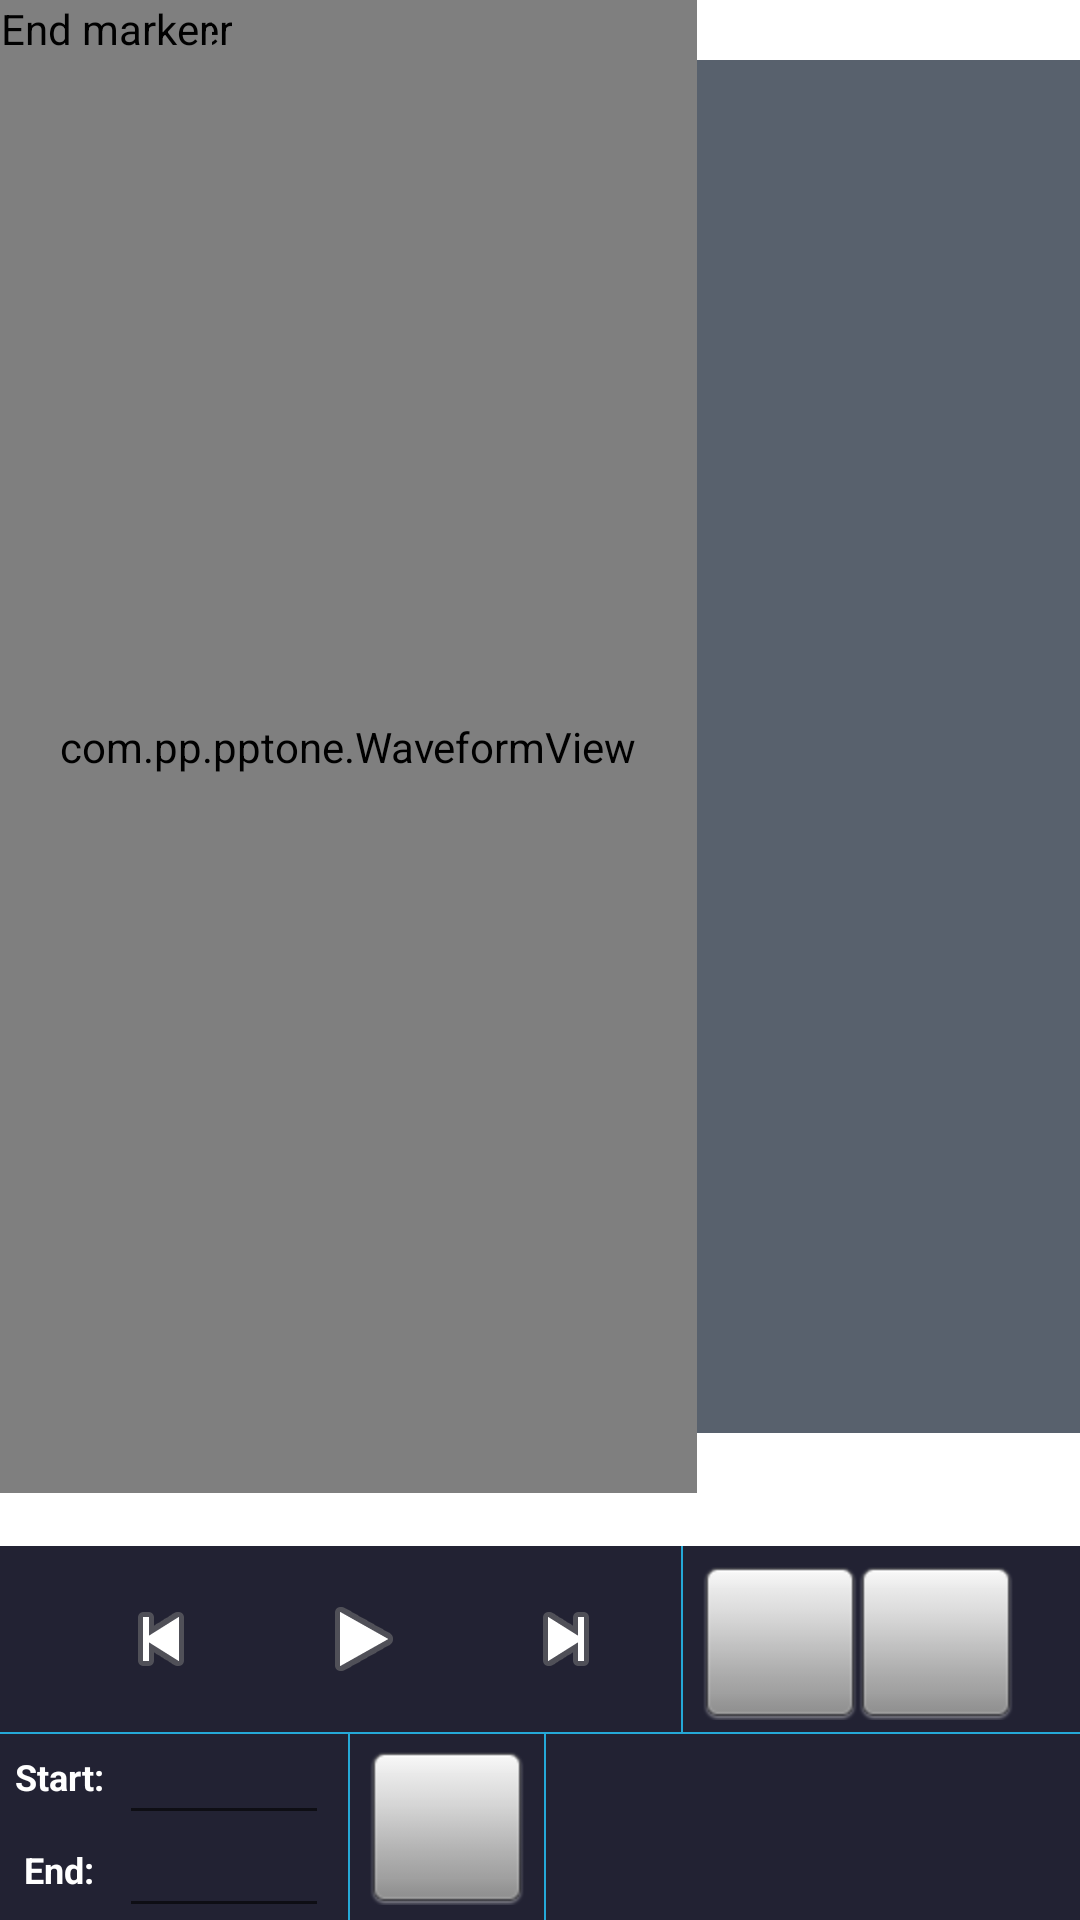

Icons on this 1080 × 1920 Android screen, each with the point to tap as (x,y):
Fast forward: (566,1639)
Play: (364,1639)
Rewind: (161,1639)
